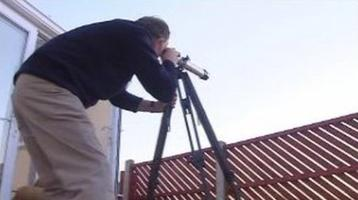person: (12, 16, 180, 200)
